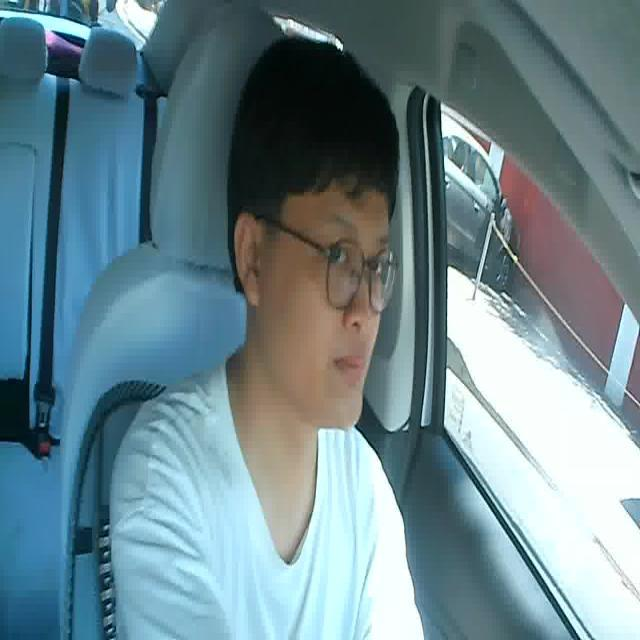Attentive: (228, 32, 405, 432)
Eye-Open: (325, 240, 350, 263), (368, 255, 390, 277)
Normal: (332, 345, 372, 382)
